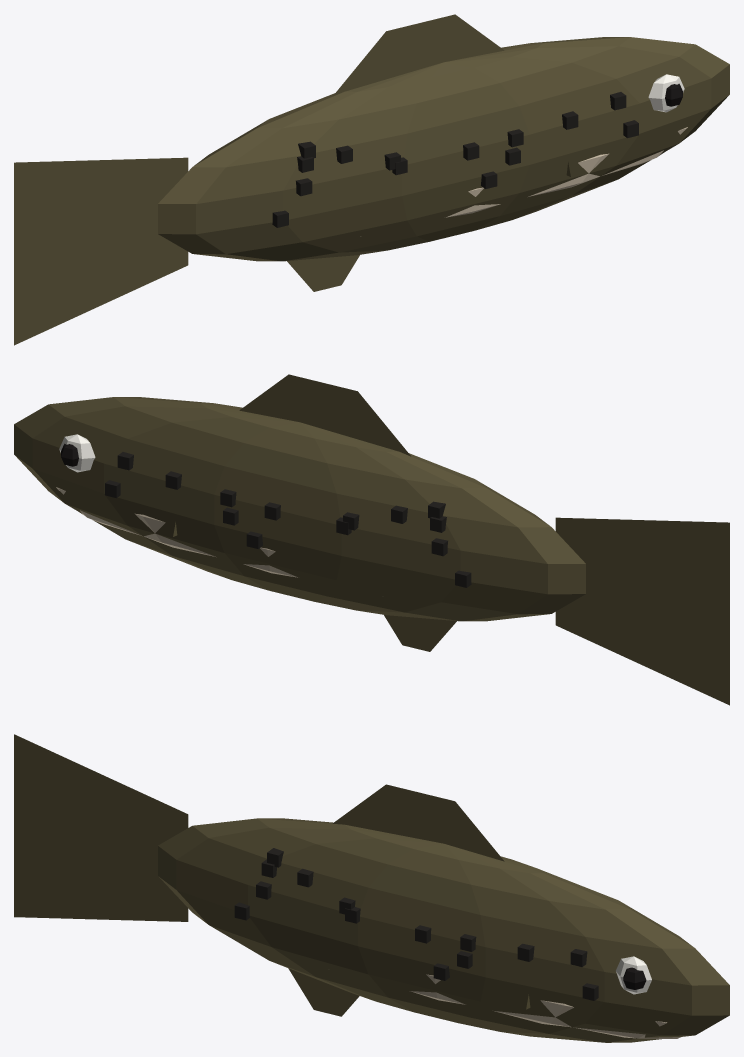
Rendered from fish_traira.obj.
The picture shows the model from 3 angles, top to bottom: view 1: azimuth 30°, elevation 25°; view 2: azimuth 150°, elevation 25°; view 3: azimuth 330°, elevation 25°; orthographic projection.
Parts seen in each view (by area): view 1: fish; view 2: fish; view 3: fish.
Part boxes in pixels (left/top/right/bottom): fish: left=14, top=14, right=729, bottom=345; fish: left=14, top=374, right=729, bottom=705; fish: left=14, top=734, right=729, bottom=1042.
Size of the model in its own units: 0.6901 by 0.224 by 0.0878.
